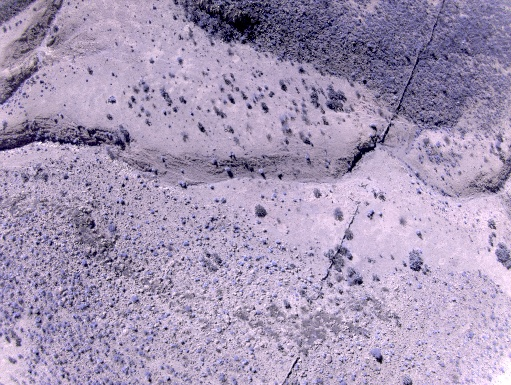agave: (59, 269, 69, 278), (45, 312, 54, 321), (107, 225, 118, 232), (186, 305, 194, 314), (78, 304, 90, 310), (132, 295, 139, 305), (119, 199, 127, 207), (81, 260, 89, 268), (100, 313, 108, 321), (42, 328, 50, 336), (233, 227, 242, 234), (132, 326, 139, 335), (144, 219, 151, 228), (121, 252, 129, 259), (254, 309, 262, 316), (239, 260, 246, 268), (194, 277, 202, 284), (58, 300, 65, 308), (33, 317, 42, 323), (126, 308, 133, 315), (22, 255, 29, 262), (124, 234, 132, 240), (154, 250, 160, 258), (91, 284, 97, 292), (32, 281, 38, 289), (63, 321, 71, 327), (204, 234, 210, 241), (97, 301, 103, 308), (33, 296, 39, 303), (134, 347, 140, 354), (41, 252, 49, 257), (262, 239, 268, 245), (148, 271, 154, 277), (135, 315, 141, 321), (122, 287, 128, 293), (67, 346, 73, 352), (98, 358, 104, 364), (183, 241, 190, 246), (167, 251, 172, 258), (272, 261, 277, 268), (70, 299, 74, 307), (181, 218, 186, 224), (131, 225, 136, 231), (162, 326, 168, 331), (43, 235, 49, 240), (160, 241, 165, 246), (204, 223, 209, 228), (214, 279, 219, 284), (180, 340, 185, 345), (63, 248, 68, 253), (151, 209, 155, 215), (119, 342, 123, 348), (54, 234, 58, 240), (144, 331, 148, 336), (93, 323, 98, 327), (29, 249, 35, 252), (112, 336, 115, 341)
